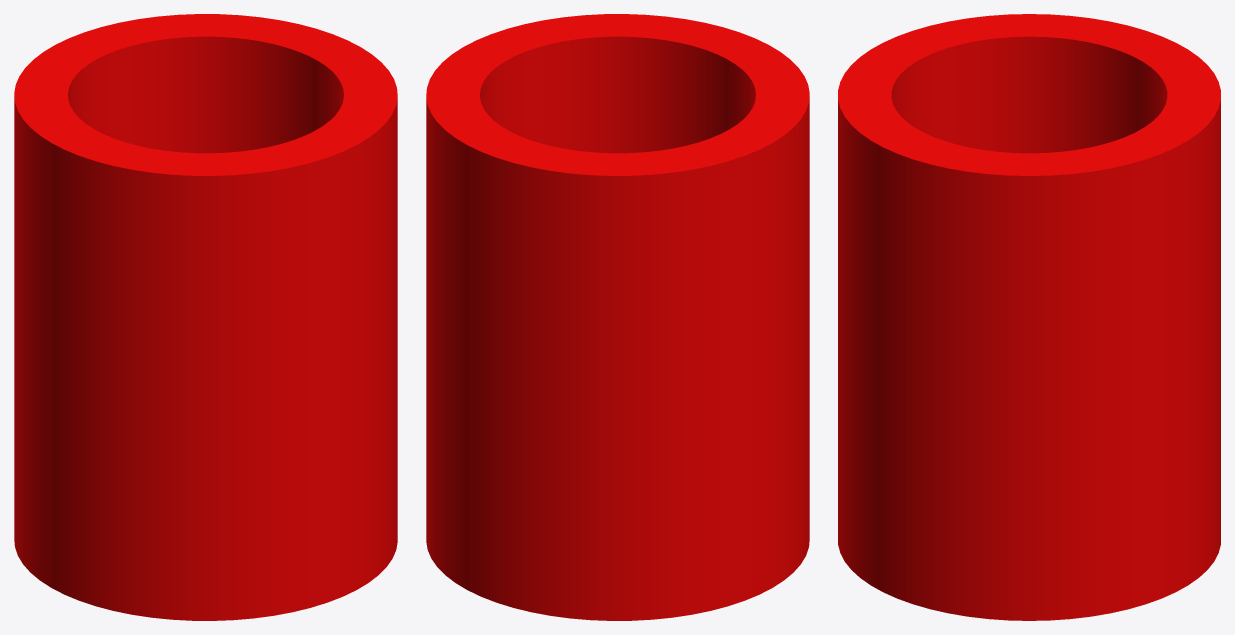
The model's file is Seal2.obj.
The picture shows the model from 3 angles, left to right: view 1: azimuth 30°, elevation 25°; view 2: azimuth 150°, elevation 25°; view 3: azimuth 270°, elevation 25°; orthographic projection.
Parts seen in each view (by area): view 1: mesh2, mesh3, mesh1; view 2: mesh2, mesh3, mesh1; view 3: mesh2, mesh3, mesh1.
Part boxes in pixels (x1,y1,x2,y2): mesh2: (14, 97, 397, 620); mesh3: (68, 36, 343, 153); mesh1: (14, 14, 397, 175); mesh2: (426, 97, 809, 620); mesh3: (480, 36, 755, 153); mesh1: (426, 14, 809, 175); mesh2: (838, 100, 1220, 620); mesh3: (891, 36, 1167, 153); mesh1: (838, 14, 1220, 175).
Size of the model in its own units: 0.025 by 0.032 by 0.025.
